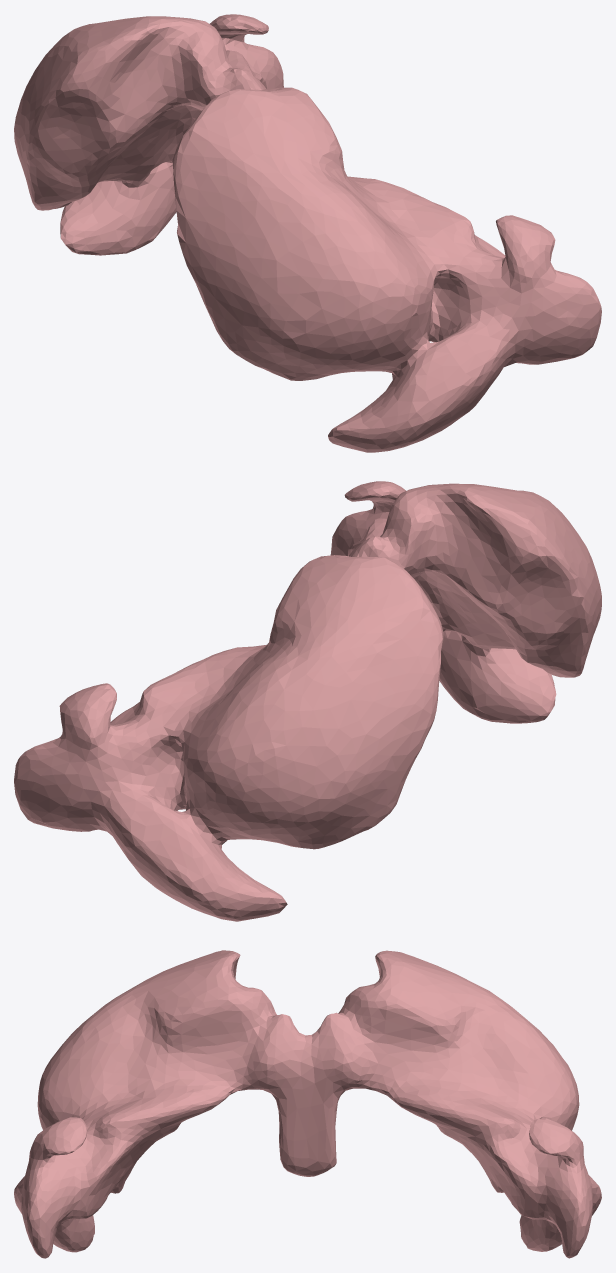
3 renders of one model, top to bottom at view 1: azimuth 30°, elevation 25°; view 2: azimuth 150°, elevation 25°; view 3: azimuth 270°, elevation 25°, orthographic. The views are drawn at different scales.
Visible parts, largest first — view 1: 864.obj; view 2: 864.obj; view 3: 864.obj.
Part boxes in pixels (x1,y1,x2,y2): 864.obj: [14, 14, 601, 452]; 864.obj: [14, 481, 601, 921]; 864.obj: [14, 950, 601, 1258].
Bounding box in the file's own units: 3014 × 2625 × 5360.
